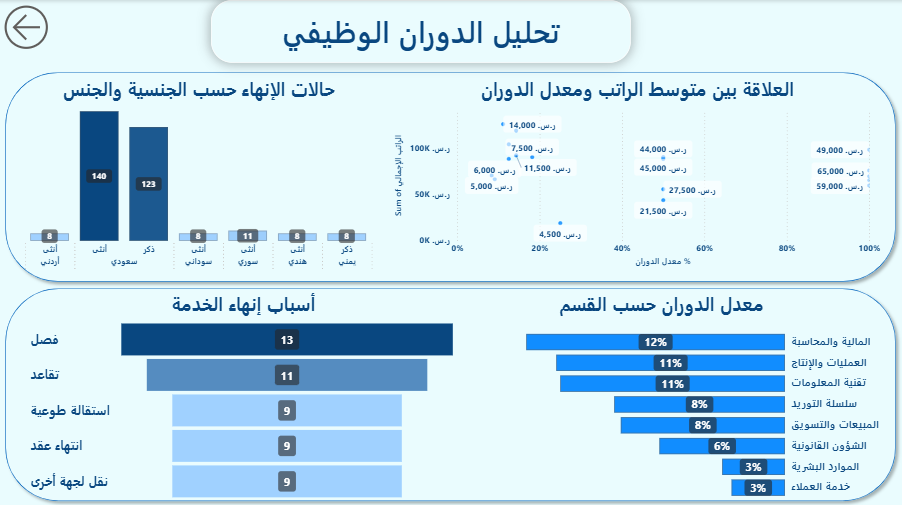

The page's visual inventory and layout, read from the dashboard file:
{"tool":"powerbi","page":{"name":"تحليل الدوران الوظيفي","canvas":[1280,720],"ordinal":4},"visuals":[{"type":"group","id":"g1","title":"Group 1","box":[0,94,1280,625.5],"z":0},{"type":"shape","box":[0,399.9,1280,319.6],"z":0,"group":"g1"},{"type":"shape","box":[0,94,1279.8,314.6],"z":1000,"group":"g1"},{"type":"funnel","title":"أسباب إنهاء الخدمة","fields":{"Category":["بيانات_الموظفين.سبب إنهاء الخدمة"],"Y":["CountNonNull(بيانات_الموظفين.اسم القسم)"]},"box":[39.3,411.9,613.5,302.5],"z":1000},{"type":"barChart","title":"معدل الدوران حسب القسم","fields":{"Y":["بيانات_الموظفين.معدل الدوران %"],"Category":["بيانات_الموظفين.اسم القسم"]},"box":[625.5,411.9,628.9,307.6],"z":2000},{"type":"scatterChart","title":"العلاقة بين متوسط الراتب ومعدل الدوران","fields":{"X":["بيانات_الموظفين.معدل الدوران %"],"Category":["بيانات_الموظفين.الراتب الإجمالي"],"Y":["Sum(بيانات_الموظفين.الراتب الإجمالي)"]},"box":[555.6,107.7,698.7,275],"z":3000},{"type":"columnChart","title":" حالات الإنهاء حسب الجنسية والجنس","fields":{"Y":["CountNonNull(بيانات_الموظفين.سبب إنهاء الخدمة)"],"Category":["بيانات_الموظفين.الجنسية الموحدة","بيانات_الموظفين.الجنس"]},"box":[11.4,107.3,543.5,284.6],"z":4000},{"type":"textbox","box":[300,0,595,89],"z":5000},{"type":"actionButton","box":[0,0,140.2,77.2],"z":6000}]}

Visuals, with their boxes in screenshot pixels (x1, y1, x2, y2), scaled from the page's 1280x720 canvas onto the 902x505 screenshot:
"Group 1" group: select_region(0, 66, 901, 504)
shape: select_region(0, 280, 901, 504)
shape: select_region(0, 66, 901, 287)
"أسباب إنهاء الخدمة" funnel: select_region(28, 289, 460, 501)
"معدل الدوران حسب القسم" barChart: select_region(441, 289, 884, 504)
"العلاقة بين متوسط الراتب ومعدل الدوران" scatterChart: select_region(392, 76, 884, 268)
" حالات الإنهاء حسب الجنسية والجنس" columnChart: select_region(8, 75, 391, 275)
textbox: select_region(211, 0, 631, 62)
actionButton: select_region(0, 0, 99, 54)
